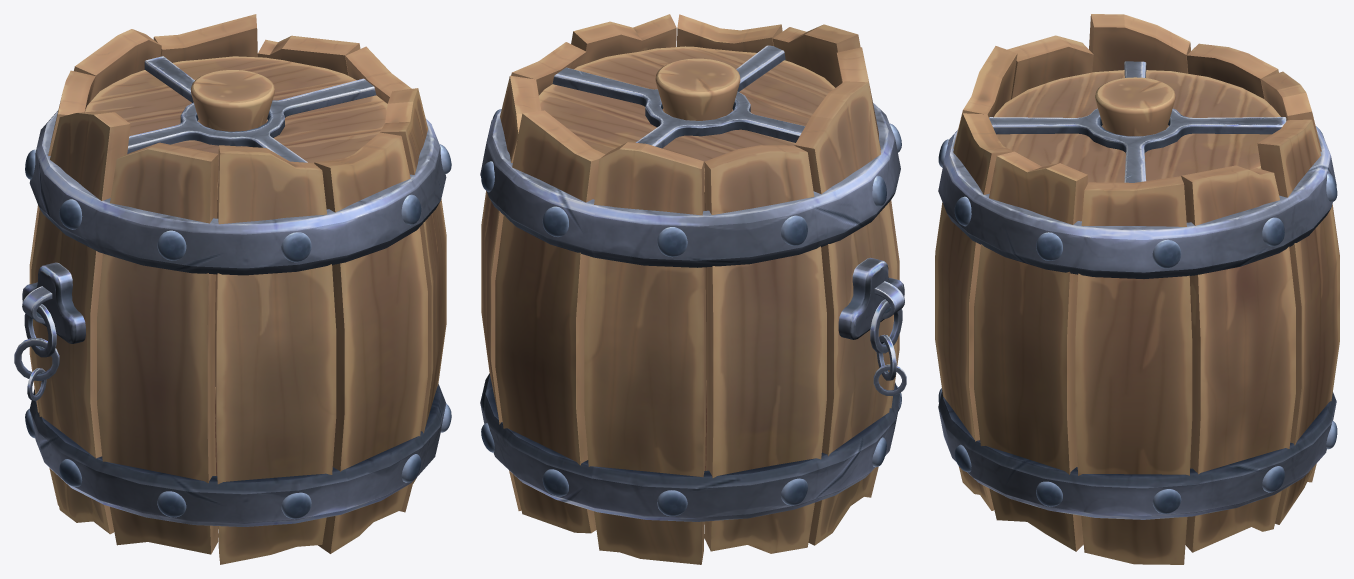
File: SM_Barrel_01.fbx
3 views of the same model, side by side, from view 1: azimuth 30°, elevation 25°; view 2: azimuth 150°, elevation 25°; view 3: azimuth 270°, elevation 25° (orthographic). The views are drawn at different scales.
Parts seen in each view (by area): view 1: SM_Barrel_01_LOD0; view 2: SM_Barrel_01_LOD0; view 3: SM_Barrel_01_LOD0.
Boxes of the visible parts, x1,y1,x2,y2 form: SM_Barrel_01_LOD0: [14, 14, 451, 564]; SM_Barrel_01_LOD0: [480, 14, 906, 564]; SM_Barrel_01_LOD0: [935, 14, 1339, 564].
Size of the model in its own units: 83.82 by 77.54 by 86.36.
Materials: 1 (1 with a texture image).
